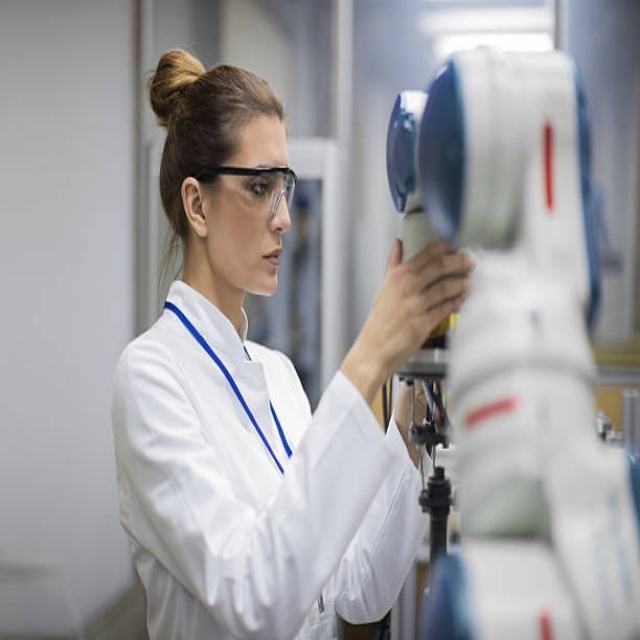Gafas: (195, 165, 298, 216)
Sin_guantes: (363, 234, 472, 371)
Sin_mascara: (244, 234, 287, 295)
